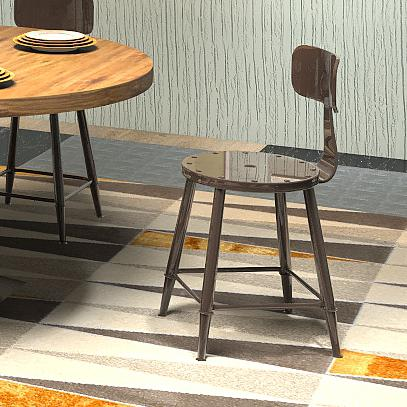table: (1, 22, 157, 246)
